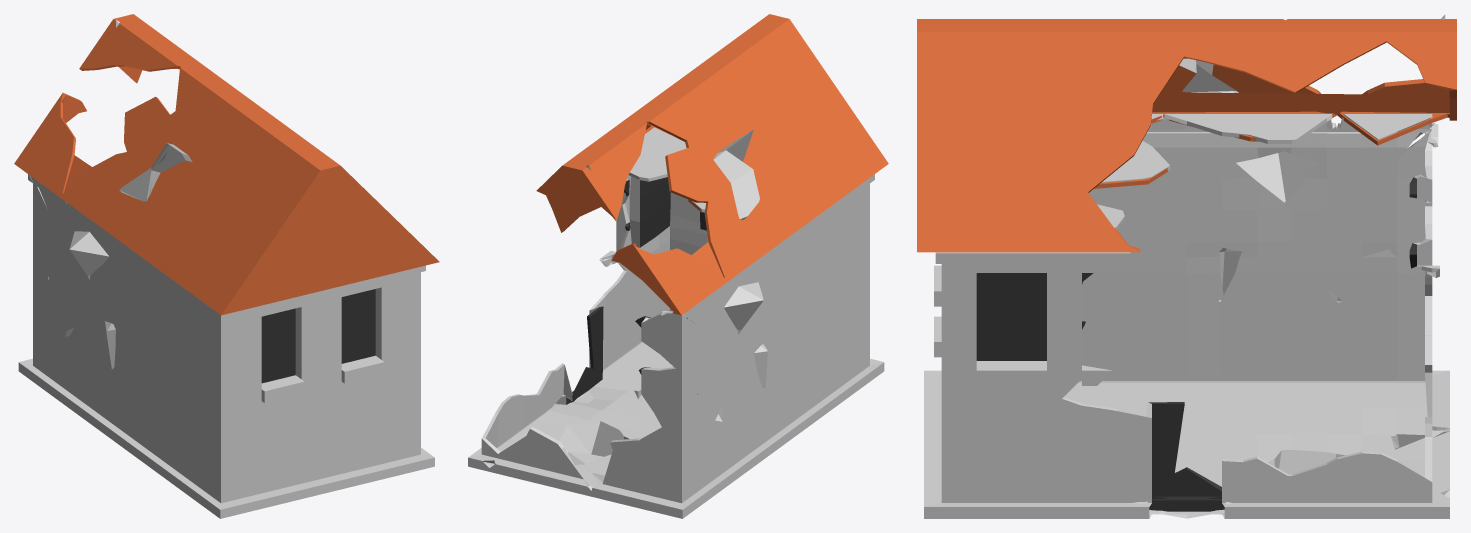
Rendered from ruin build5.fbx.
3 renders of one model, left to right at view 1: azimuth 30°, elevation 25°; view 2: azimuth 150°, elevation 25°; view 3: azimuth 270°, elevation 25°, orthographic. The views are drawn at different scales.
Parts seen in each view (by area): view 1: Cube.034; view 2: Cube.034; view 3: Cube.034.
Part boxes in pixels (x1,y1,x2,y2): Cube.034: (14,14,439,518); Cube.034: (468,14,888,518); Cube.034: (917,14,1456,518).
Size of the model in its own units: 7060 by 10334 by 10915.
